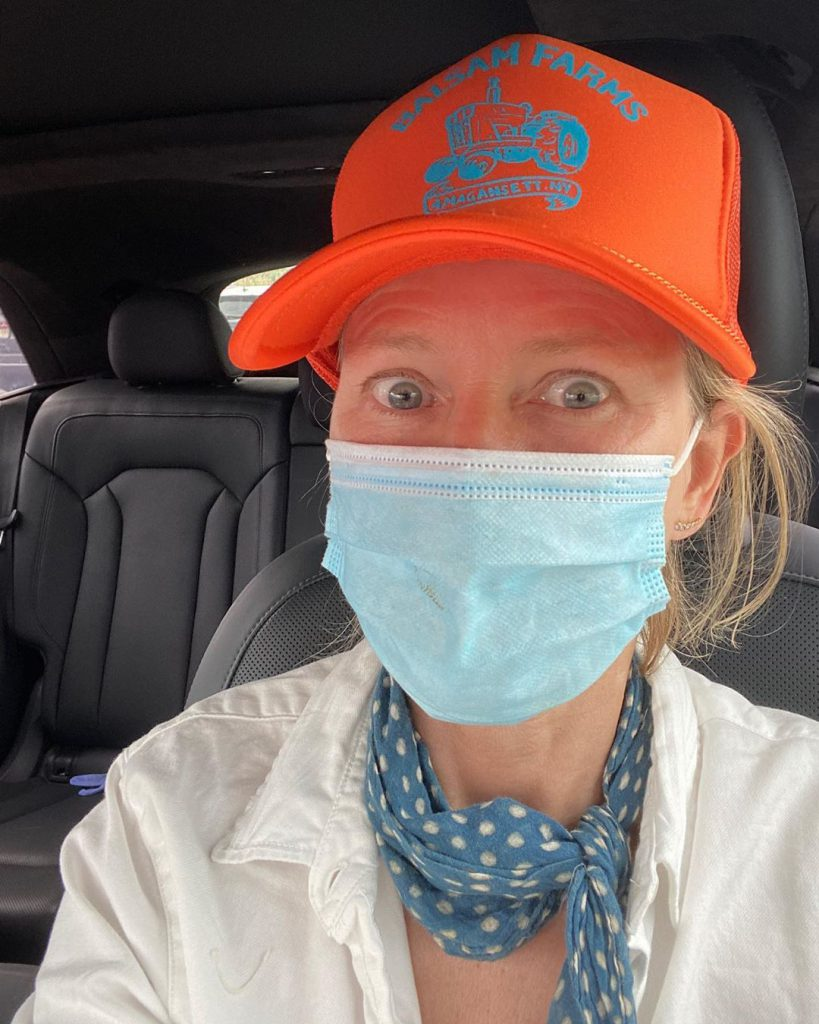barbijo: (305, 415, 695, 724)
